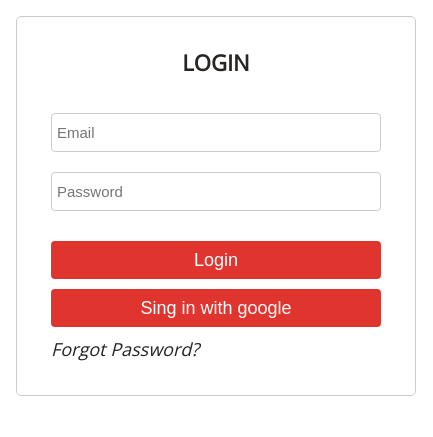
Scenario: SignIn component › shows an error message if the user tries to submit the form without entering an email or password
Click the button "Login".
click(216, 260)  # box x1=51 y1=241 x2=381 y2=279
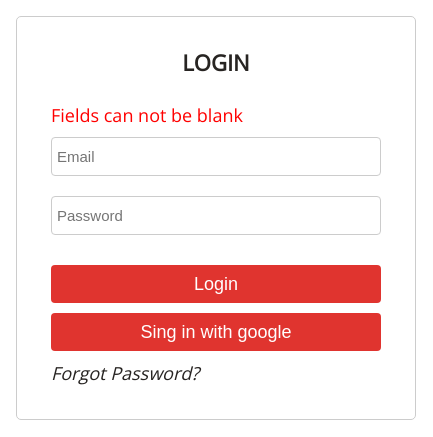
Now the text "Fields can not be blank" is shown, box x1=51 y1=103 x2=243 y2=127
